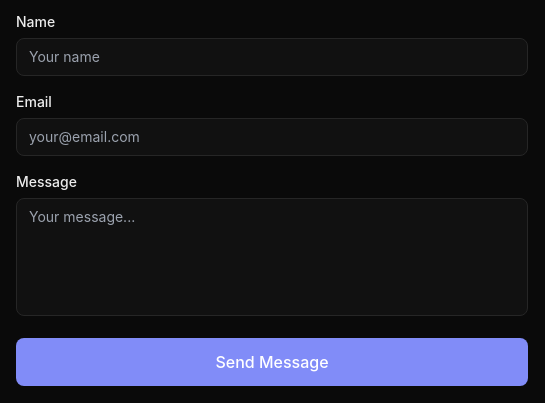
ContactForm › shows success message on valid submission
Type "Test User" into the field labelled "Name" at (272, 57), box [16,38,528,76]
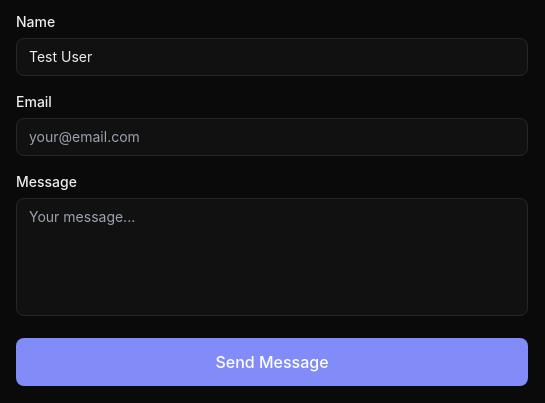
Type "test@example.com" into the field labelled "Email" at (272, 137), box [16,118,528,156]
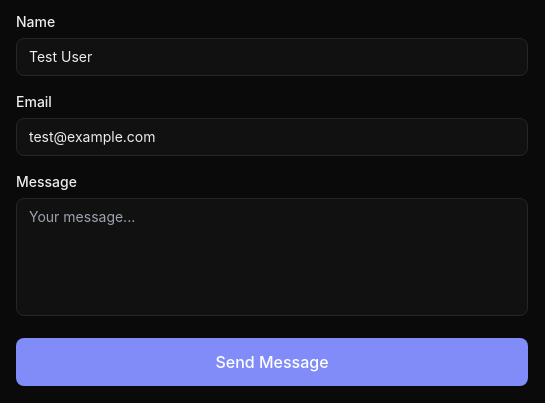
Type "Hello there" into the text box labelled "Message" at (272, 257), box [16,198,528,316]
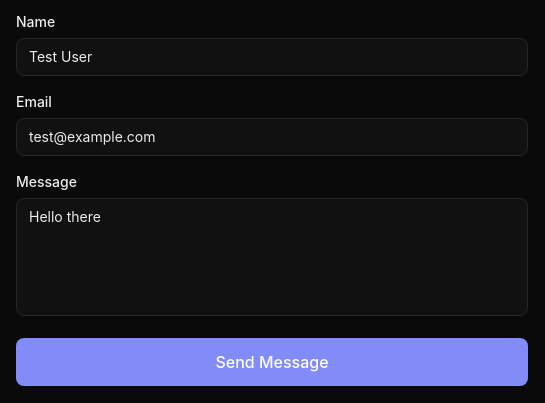
Click the button "Send Message" at (272, 362), box [16,338,528,386]
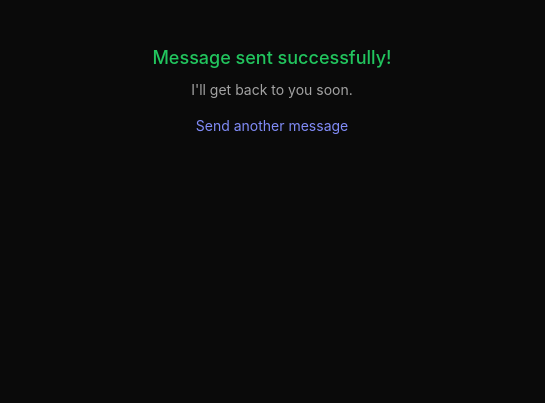
Result: the text "Message sent successfully!" is shown at [152,47,392,68]
